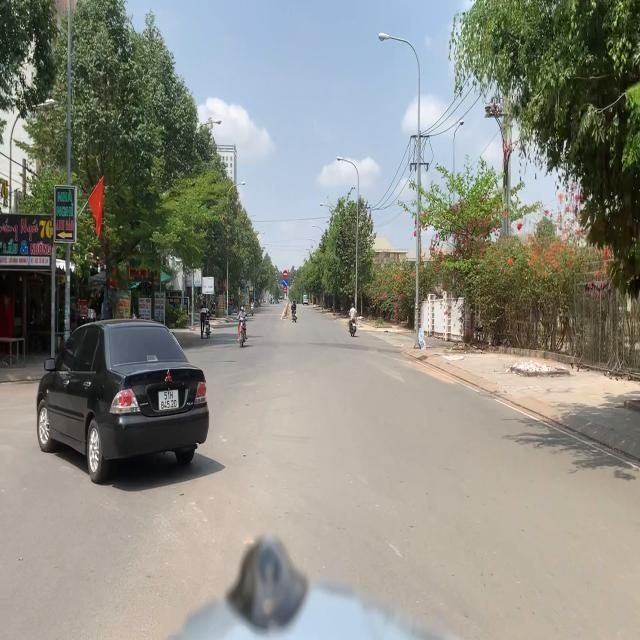bien_hieu_lenh: (283, 270, 287, 278), (283, 279, 287, 287)
